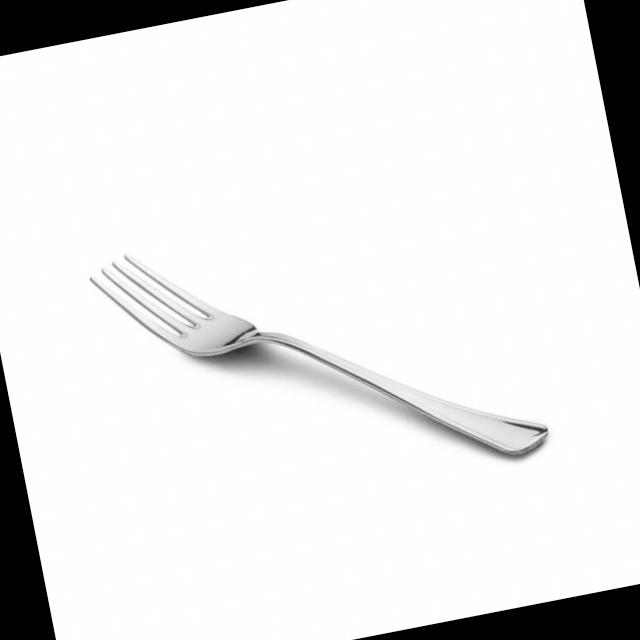fork: (81, 178, 552, 536)
